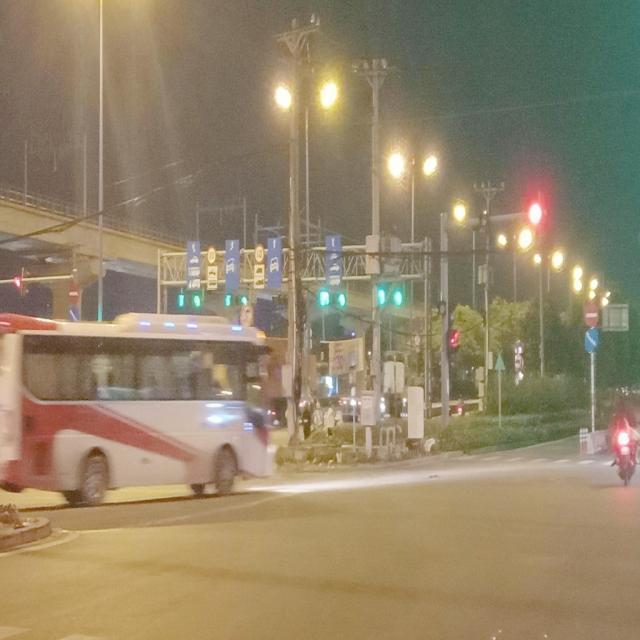102-cam-di-nguoc-chieu: (583, 302, 599, 327), (67, 285, 79, 304)
106-cam-oto-tai: (516, 354, 524, 372)
302a-huong-phai-di-vong-chuong-ngai-vat-1: (582, 328, 599, 352), (68, 304, 80, 321)
